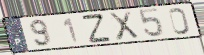0: (168, 7, 192, 36)
1: (63, 17, 80, 44)
5: (137, 7, 166, 40)
9: (28, 18, 53, 48)
X: (107, 10, 141, 42)
Z: (81, 12, 113, 44)
